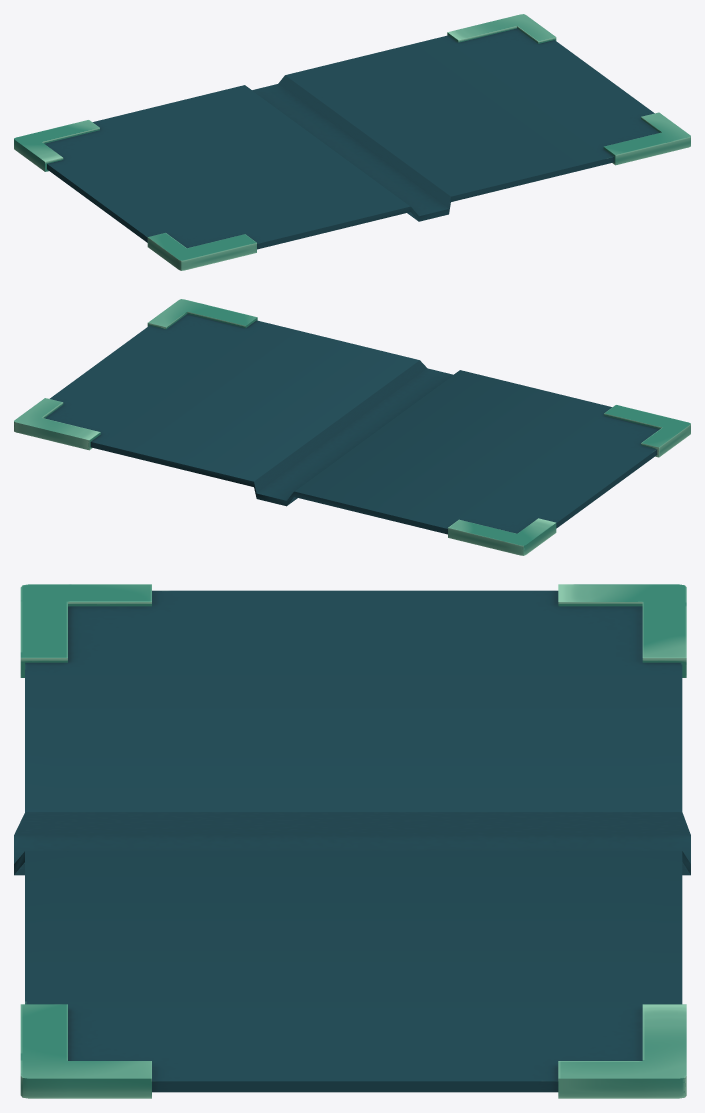
Rendered from Book_Cover.FBX.
3 views of the same model, one above another, from view 1: azimuth 30°, elevation 25°; view 2: azimuth 150°, elevation 25°; view 3: azimuth 270°, elevation 25° (orthographic). The views are drawn at different scales.
Parts seen in each view (by area): view 1: Box001; view 2: Box001; view 3: Box001.
Boxes of the visible parts, x1,y1,x2,y2 form: Box001: (14, 14, 690, 270); Box001: (14, 299, 690, 555); Box001: (14, 584, 690, 1098).
Bounding box in the file's own units: 368 × 213 × 11.57.
